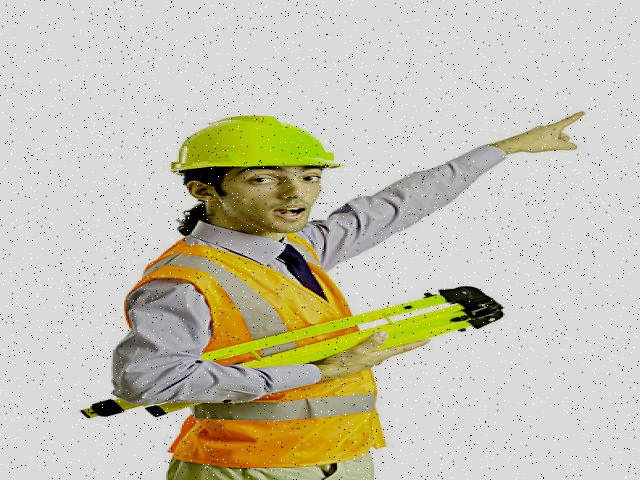Helmet: (162, 109, 347, 180)
